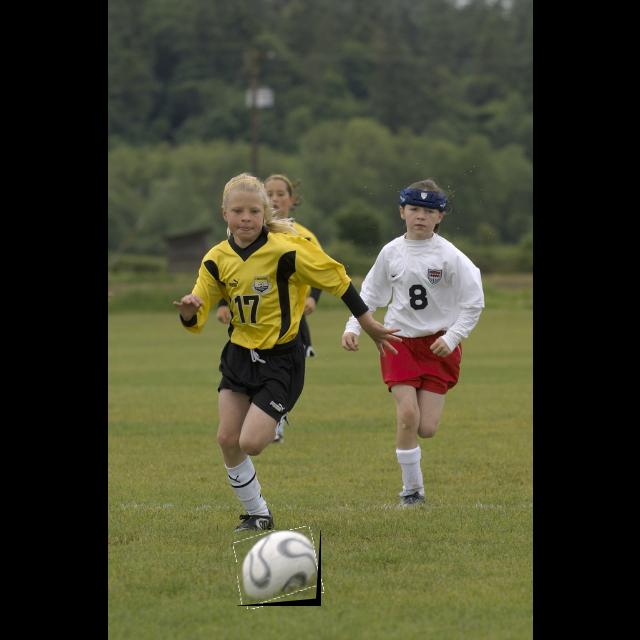Football: (237, 530, 321, 606)
